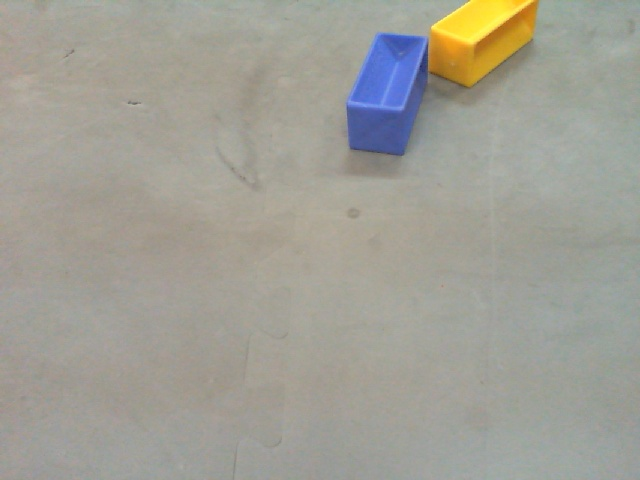BlueSample: (343, 29, 429, 160)
YellowSample: (426, 1, 540, 91)
